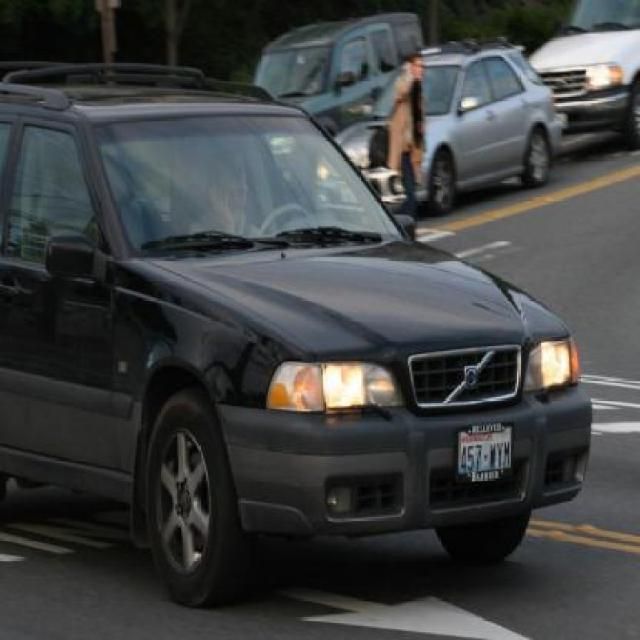License-Plates: (453, 418, 518, 482)
